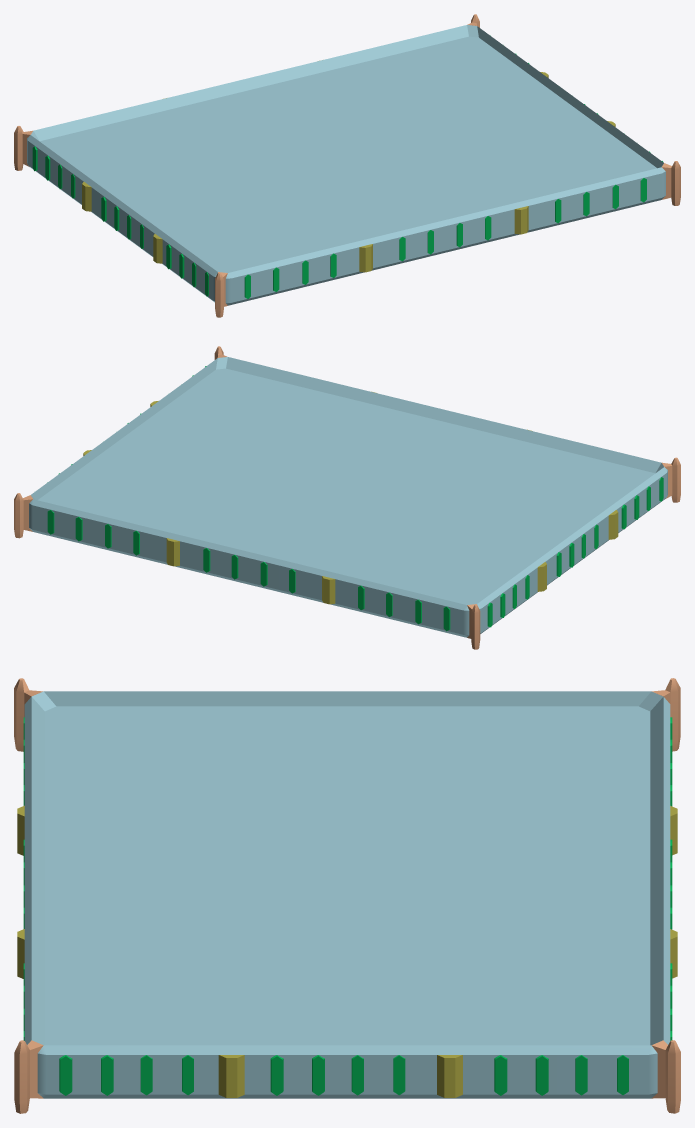
Rendered from Platform.fbx.
The picture shows the model from 3 angles, top to bottom: view 1: azimuth 30°, elevation 25°; view 2: azimuth 150°, elevation 25°; view 3: azimuth 270°, elevation 25°; orthographic projection. The views are drawn at different scales.
Visible parts, largest first — view 1: Platform, pCylinder9, pCylinder5, pCylinder10; view 2: Platform, pCylinder8, pCylinder10, pCylinder5; view 3: Platform, pCylinder9, pCylinder8, pCube42, pCube43, pCylinder10, pCylinder5.
Part boxes in pixels (<box>): Platform: <box>27,25,665,305</box>; pCylinder9: <box>661,161,680,205</box>; pCylinder5: <box>14,126,32,170</box>; pCylinder10: <box>215,272,227,317</box>; Platform: <box>29,357,667,637</box>; pCylinder8: <box>14,493,32,538</box>; pCylinder10: <box>662,457,680,502</box>; pCylinder5: <box>467,604,480,649</box>; Platform: <box>24,691,670,1098</box>; pCylinder9: <box>14,1040,43,1113</box>; pCylinder8: <box>651,1040,680,1113</box>; pCube42: <box>218,1055,244,1097</box>; pCube43: <box>437,1055,462,1097</box>; pCylinder10: <box>14,678,42,751</box>; pCylinder5: <box>652,678,680,751</box>.
Size of the model in its own units: 29.72 by 2.63 by 22.72.
